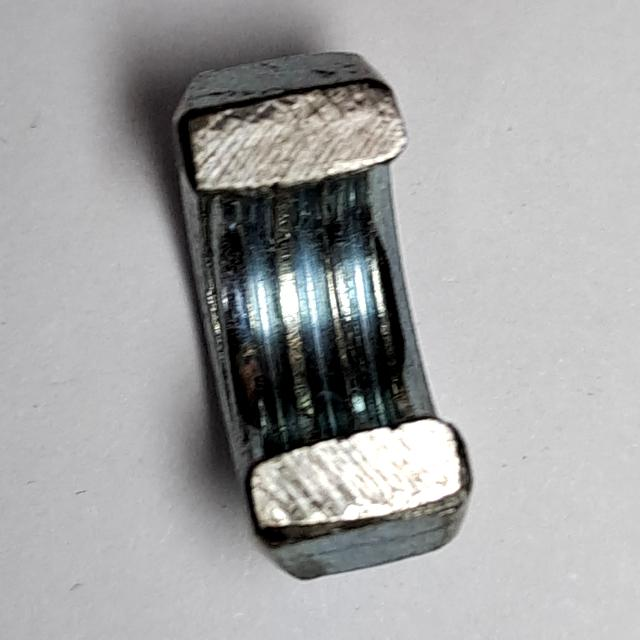Side-Fracture: (149, 45, 488, 597)
